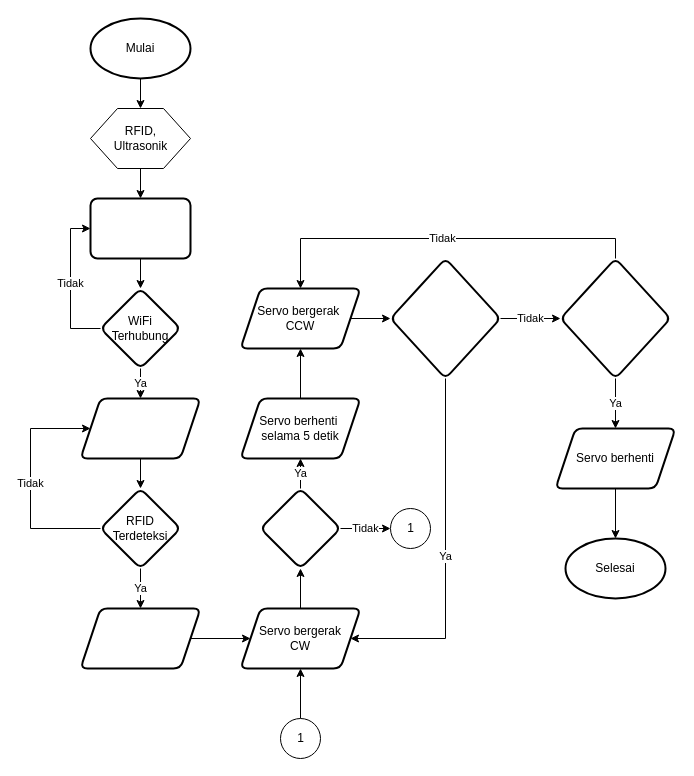
This 694x776 diagram has some shape labels left out. The box of each missing label's shape, as (x1, y1, x2, y2) in pixels:
Buzzer Menyala dan UID kirim ke Telegram: (79, 607, 201, 669)
Cek RFID Tags: (79, 397, 201, 459)
Menghubungkan WiFi: (89, 197, 191, 259)
Switch 1 terkan?: (259, 487, 341, 569)
Switch 2 tertekan: (559, 257, 671, 379)
Ultrasonik menedeteksi jarak <= 5 cm: (389, 257, 501, 379)
